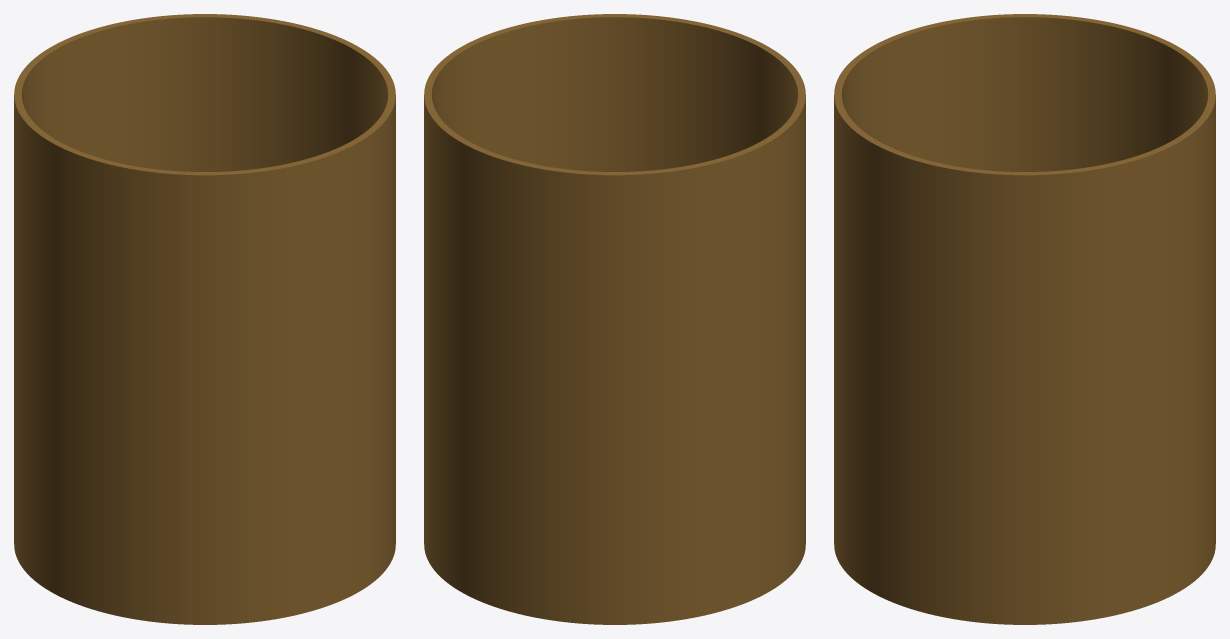
The model's file is DomesFoot_BRONZEBRUSHED2.glb.
The picture shows the model from 3 angles, left to right: view 1: azimuth 30°, elevation 25°; view 2: azimuth 150°, elevation 25°; view 3: azimuth 270°, elevation 25°; orthographic projection.
Visible parts, largest first — view 1: Object002; view 2: Object002; view 3: Object002.
Boxes of the visible parts, bbox=[...] form: Object002: bbox=[14, 14, 395, 624]; Object002: bbox=[424, 14, 805, 624]; Object002: bbox=[834, 14, 1215, 624].
Bounding box in the file's own units: 0.1 × 0.13 × 0.1.
